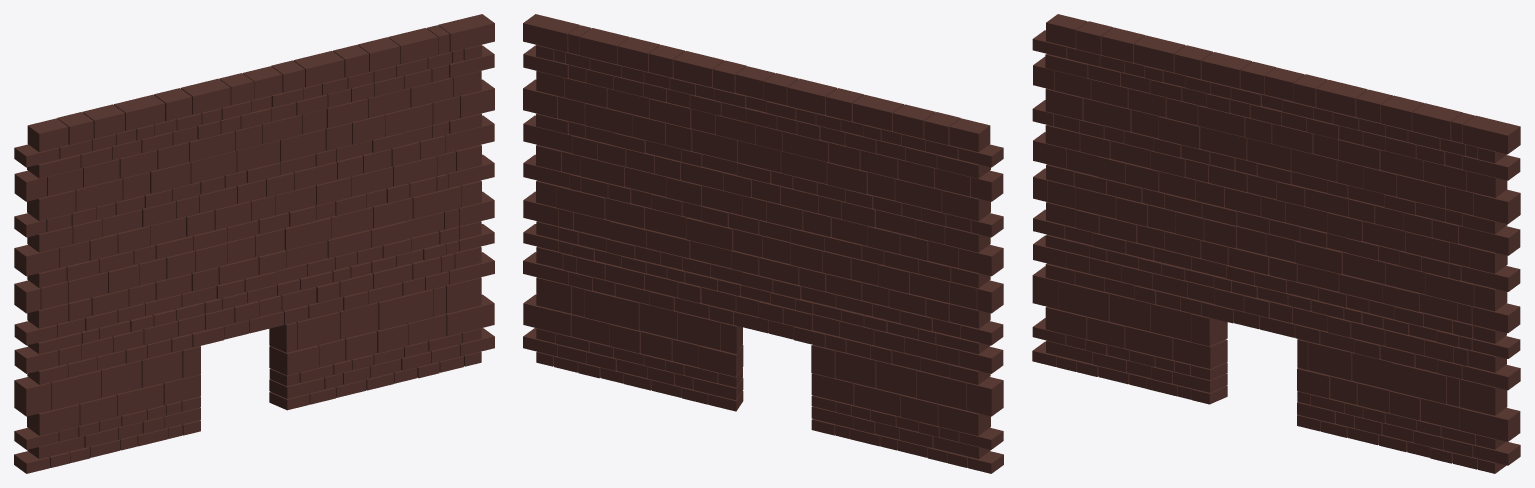
Rendered from BrickWallDoor.fbx.
The picture shows the model from 3 angles, left to right: view 1: azimuth 30°, elevation 25°; view 2: azimuth 150°, elevation 25°; view 3: azimuth 330°, elevation 25°; orthographic projection.
Visible parts, largest first — view 1: Wall.003; view 2: Wall.003; view 3: Wall.003.
Boxes of the visible parts, bbox=[...] form: Wall.003: bbox=[14, 14, 494, 473]; Wall.003: bbox=[523, 14, 1003, 473]; Wall.003: bbox=[1032, 14, 1520, 473].
Bounding box in the file's own units: 2180 × 1496 × 102.
